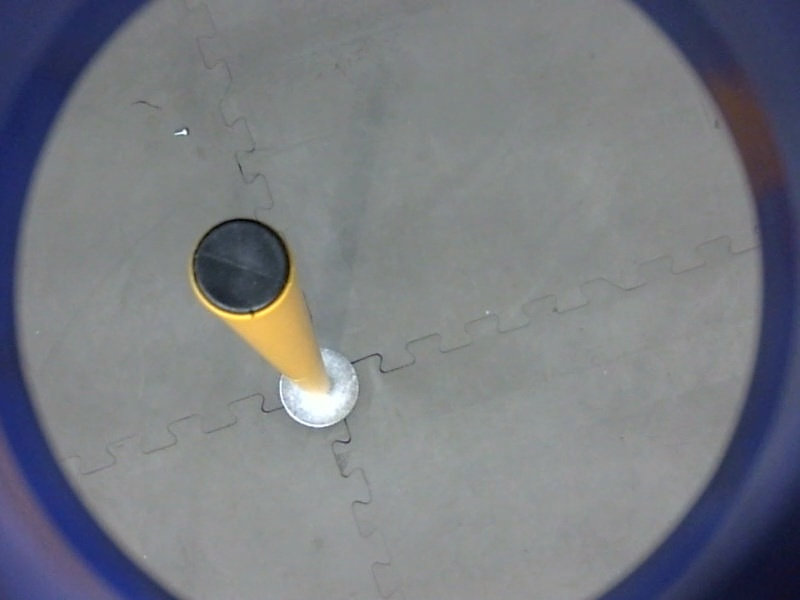tip: (183, 212, 299, 323)
